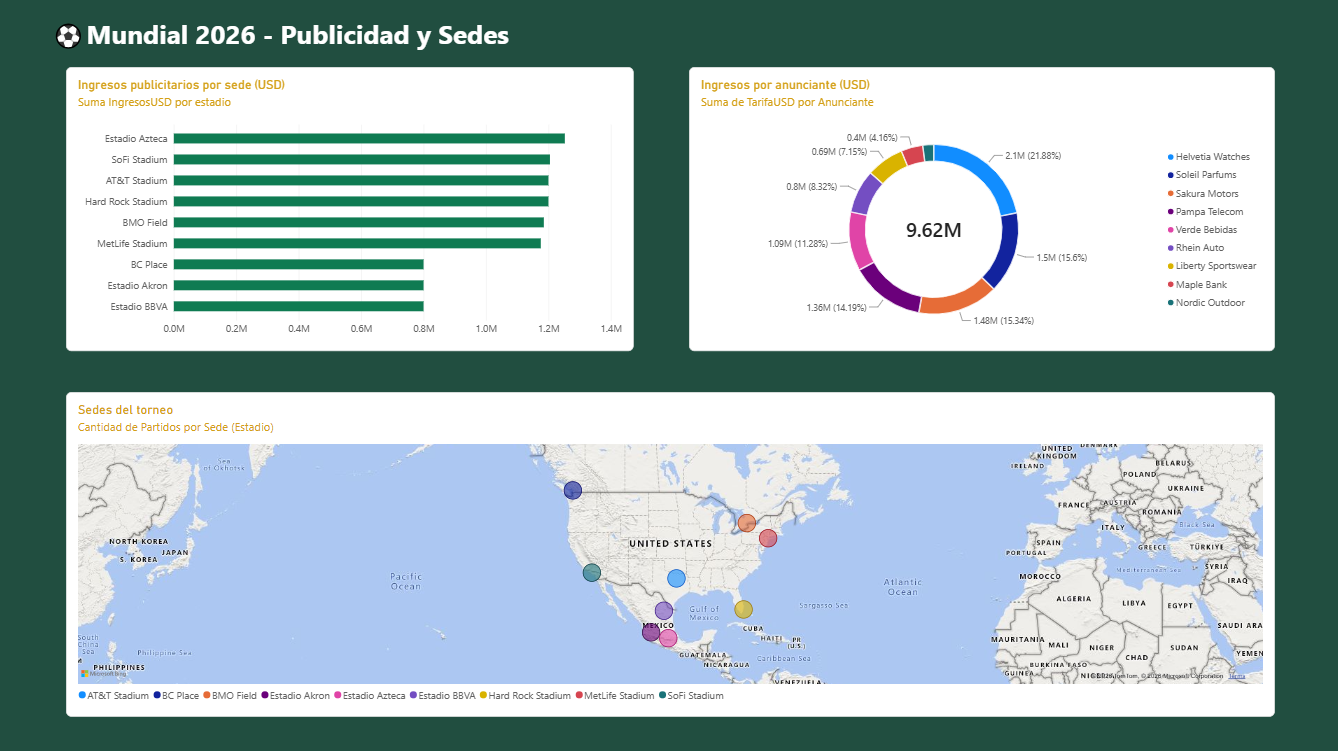

Layout of this report page (visuals, bound fields, positions):
{"tool":"powerbi","page":{"name":"Publicidad y Sedes","canvas":[1920,1080],"ordinal":1},"visuals":[{"type":"clusteredBarChart","title":"Ingresos publicitarios por sede (USD)","fields":{"Category":["publicidad vw_OcupacionPublicitariaSede.Estadio"],"Y":["Sum(publicidad vw_OcupacionPublicitariaSede.IngresosUSD)"]},"box":[40.9,624.4,907.5,455.2],"z":0},{"type":"donutChart","title":"Ingresos por anunciante (USD)","fields":{"Category":["publicidad vw_EspaciosPublicitariosUSD.Anunciante"],"Y":["Sum(publicidad vw_EspaciosPublicitariosUSD.TarifaUSD)"]},"box":[979,624.4,913.3,455.2],"z":1000},{"type":"map","fields":{"Series":["nucleo vw_SedesMapa.Estadio"],"Size":["CountNonNull(nucleo vw_SedesMapa.CantidadPartidos)"],"X":["nucleo vw_SedesMapa.Longitud"],"Y":["nucleo vw_SedesMapa.Latitud"]},"box":[40.9,0,1851.4,604],"z":2000}]}

Visuals, with their boxes in screenshot pixels (x1, y1, x2, y2), scaled from the page's 1920x1080 canvas onto the 1338x751 screenshot:
"Ingresos publicitarios por sede (USD)" clusteredBarChart: 29,434,661,750
"Ingresos por anunciante (USD)" donutChart: 682,434,1319,750
map - nucleo vw_SedesMapa.Estadio x CountNonNull(nucleo vw_SedesMapa.CantidadPartidos): 29,0,1319,420
